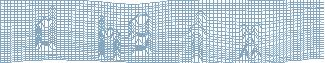d: (33, 4, 59, 53)
f: (186, 10, 209, 61)
g: (126, 12, 156, 57)
h: (94, 13, 123, 63)
x: (236, 22, 266, 62)
